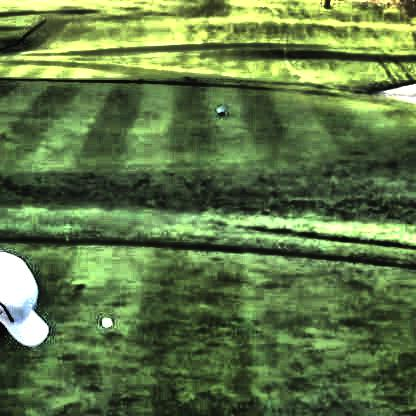golfball: (99, 315, 109, 327)
